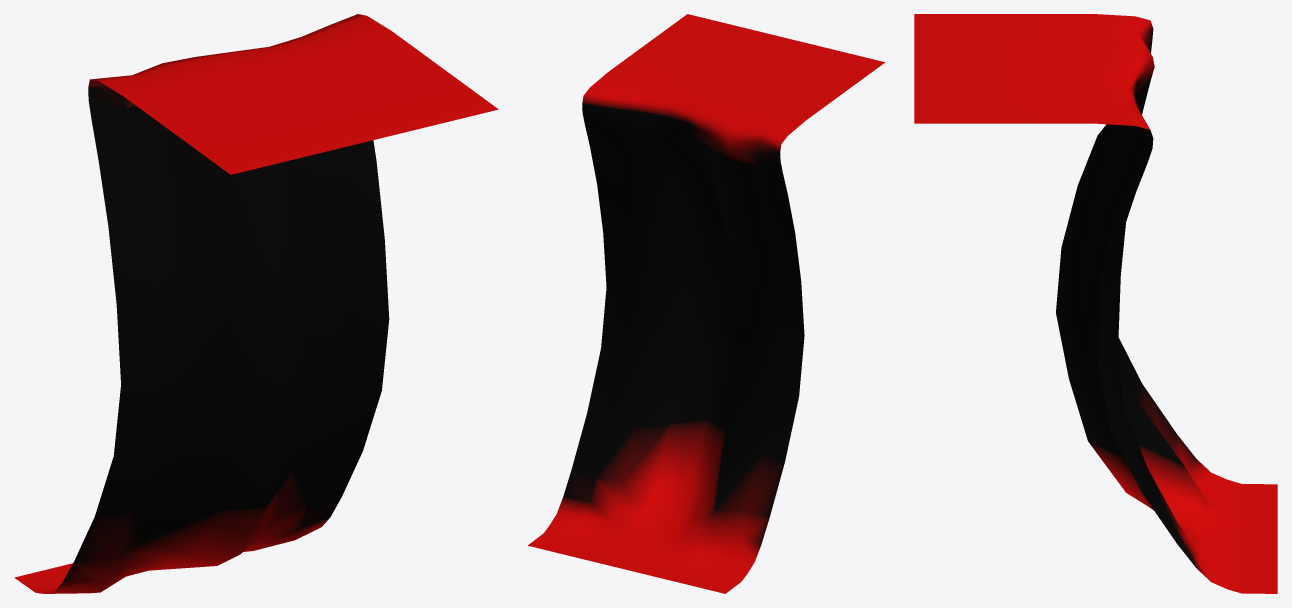
Rendered from GroundCliff00C 2M Background.fbx.
3 views of the same model, side by side, from view 1: azimuth 30°, elevation 25°; view 2: azimuth 150°, elevation 25°; view 3: azimuth 270°, elevation 25° (orthographic). The views are drawn at different scales.
Visible parts, largest first — view 1: GroundCliff00C 2M Background; view 2: GroundCliff00C 2M Background; view 3: GroundCliff00C 2M Background.
Part boxes in pixels (left/top/right/bottom): GroundCliff00C 2M Background: left=14, top=14, right=498, bottom=593; GroundCliff00C 2M Background: left=528, top=14, right=884, bottom=593; GroundCliff00C 2M Background: left=914, top=14, right=1277, bottom=593.
Size of the model in its own units: 1 by 2 by 1.4.
